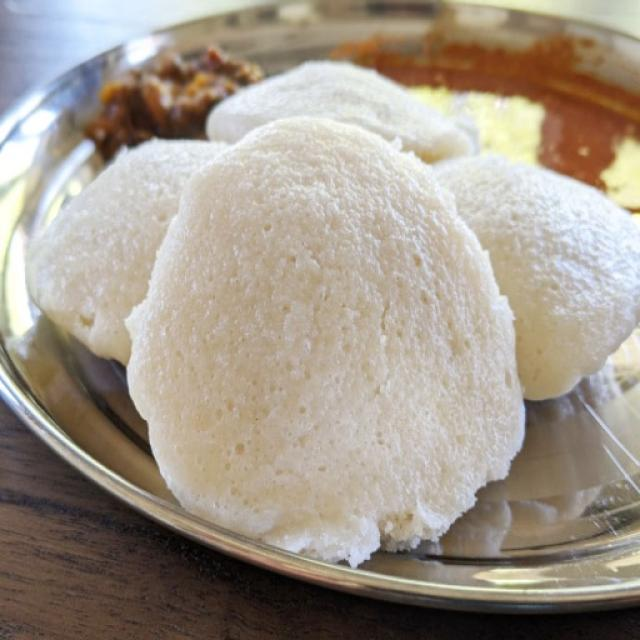IDLI: (29, 62, 639, 559)
